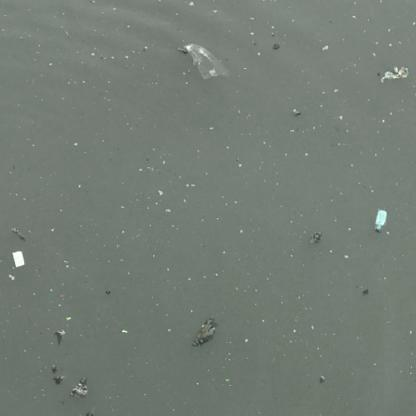Plastic: (369, 203, 393, 236)
Trash: (169, 33, 234, 94)
